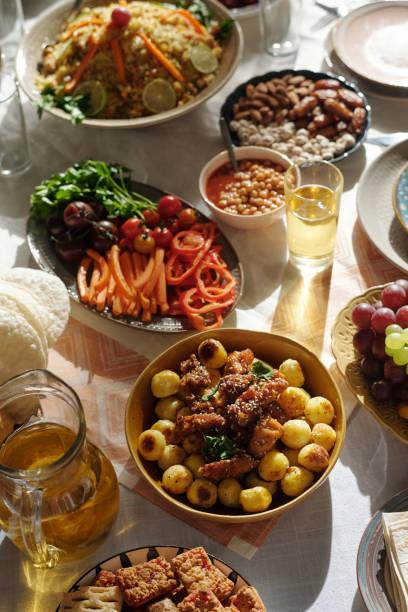Braised Crucian Carp: (123, 330, 343, 523), (26, 177, 243, 330), (17, 2, 241, 131), (219, 70, 367, 165)
